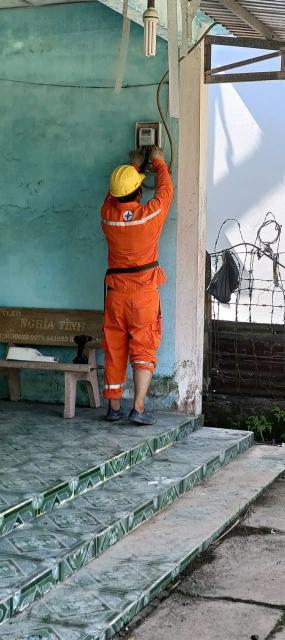gloves: (148, 137, 173, 170), (116, 142, 148, 166)
harness: (103, 257, 170, 273)
helmet: (82, 163, 151, 197)
shoes: (125, 402, 169, 430), (102, 400, 127, 427)
